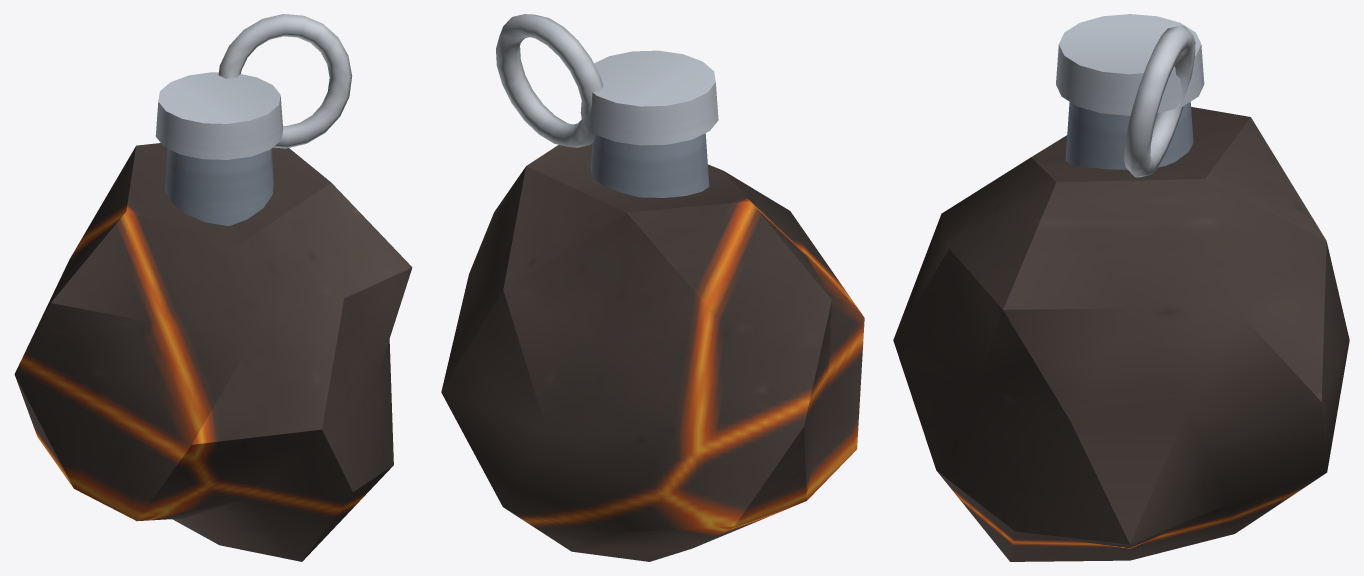
The model's file is CinderGrenade.fbx.
3 renders of one model, left to right at view 1: azimuth 30°, elevation 25°; view 2: azimuth 150°, elevation 25°; view 3: azimuth 270°, elevation 25°, orthographic. The views are drawn at different scales.
Visible parts, largest first — view 1: CinderGrenade; view 2: CinderGrenade; view 3: CinderGrenade.
Part boxes in pixels (box(x1,y1,x2,y2)): CinderGrenade: box(14, 14, 412, 561); CinderGrenade: box(441, 14, 864, 561); CinderGrenade: box(893, 14, 1349, 561).
Bounding box in the file's own units: 0.3094 × 0.4267 × 0.3073.
Materials: 4 (4 with a texture image).
